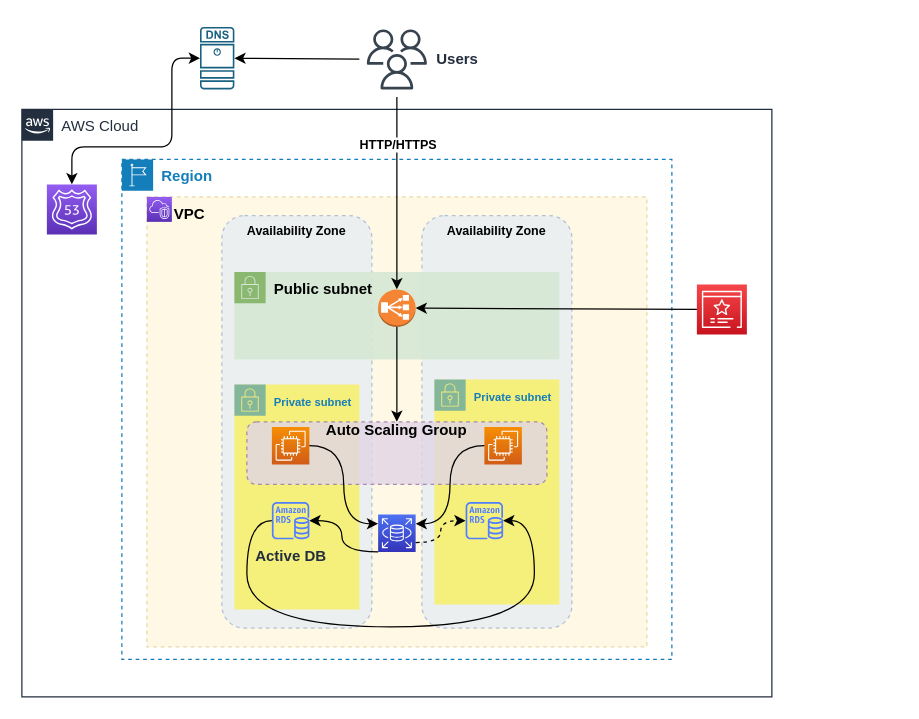
Some shapes in this 919 by 719 pixel diagram are drawn without their labels. The centre of each missing label's shape, as x and y in pixels:
"Certificate Manager" belongs at point (721, 308).
"CLB" belongs at point (396, 307).
"RDS Proxy" belongs at point (396, 532).
"Route53 DNS" belongs at point (71, 208).
"Standby Replica" belongs at point (483, 520).
